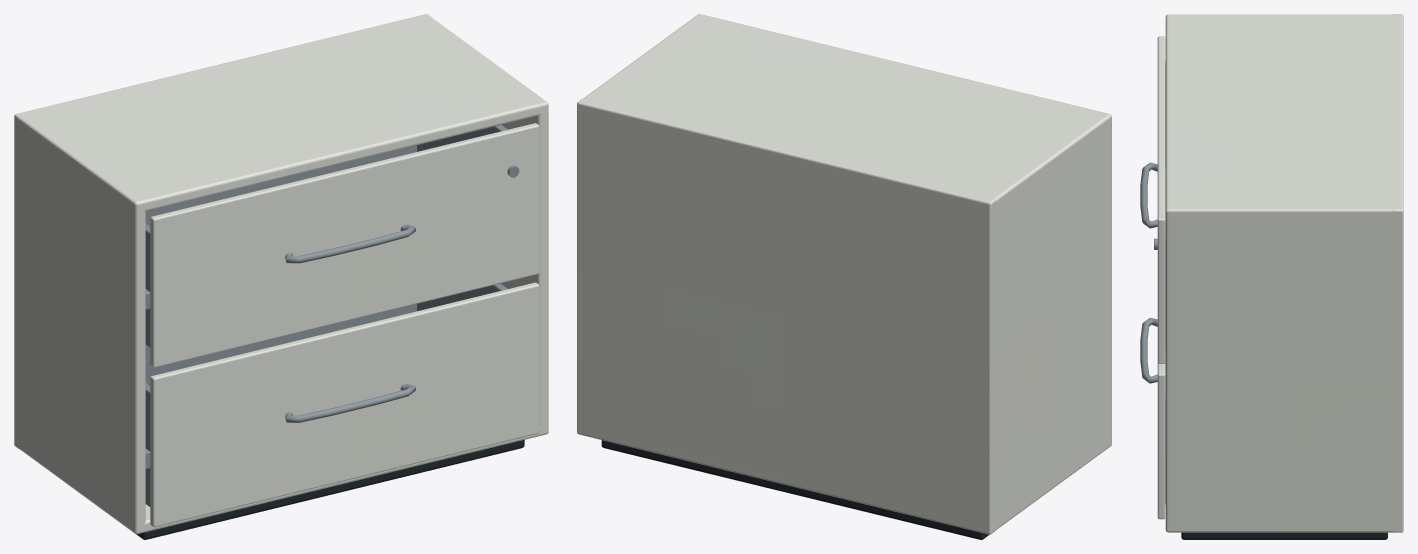
The model's file is filing_cabinet.glb.
3 renders of one model, left to right at view 1: azimuth 30°, elevation 25°; view 2: azimuth 150°, elevation 25°; view 3: azimuth 270°, elevation 25°, orthographic. The views are drawn at different scales.
Parts seen in each view (by area): view 1: Cabinet back, File drawer box back, File anti-tip plinth; view 2: Cabinet back, File anti-tip plinth; view 3: Cabinet back, File drawer box back, File anti-tip plinth.
Boxes of the visible parts, x1,y1,x2,y2 form: Cabinet back: (14, 14, 548, 534); File drawer box back: (145, 124, 519, 506); File anti-tip plinth: (136, 440, 524, 539); Cabinet back: (577, 14, 1111, 534); File anti-tip plinth: (601, 440, 989, 539); Cabinet back: (1157, 14, 1403, 532); File drawer box back: (1140, 60, 1165, 504); File anti-tip plinth: (1181, 532, 1387, 539).
Size of the model in its own units: 0.9 by 0.7225 by 0.5091.
Materials: 3 (3 with a texture image).
